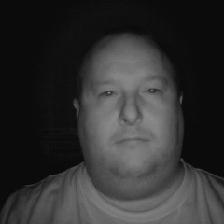normal: (68, 23, 211, 199)
